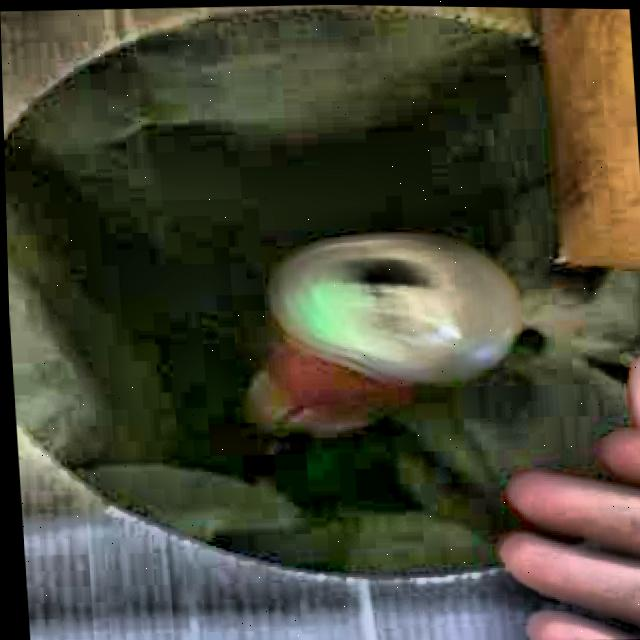metal: (246, 231, 519, 433)
